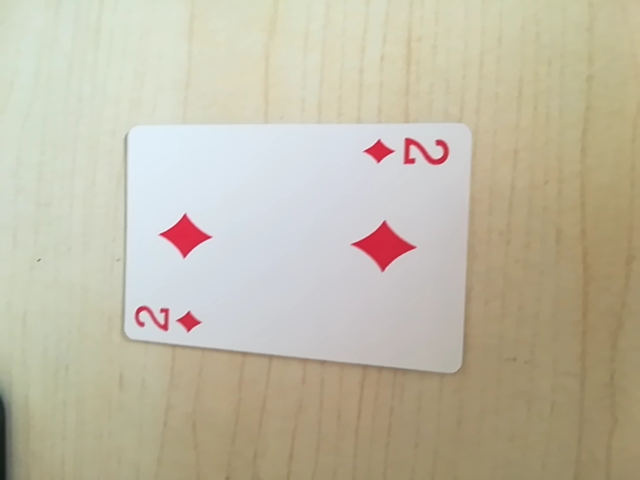fk 2: (361, 130, 458, 174), (131, 298, 209, 338)
